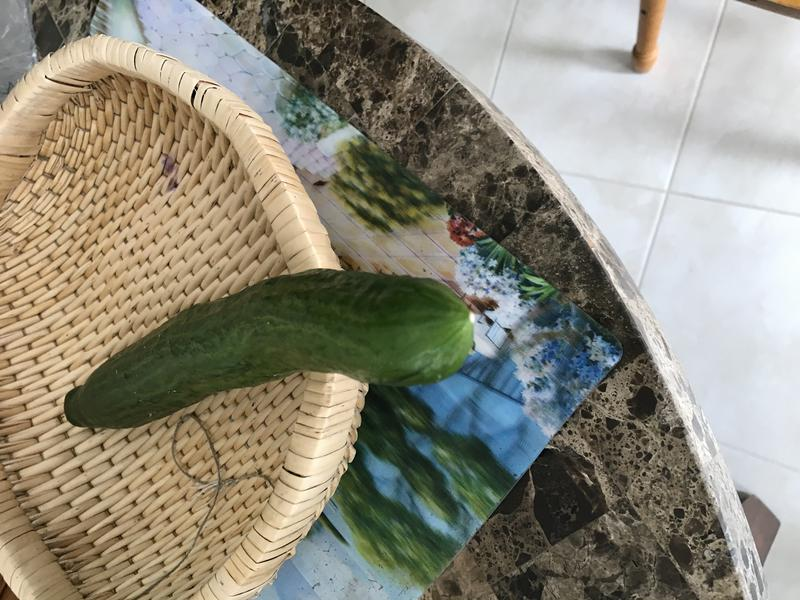cucumber: (58, 265, 495, 458)
